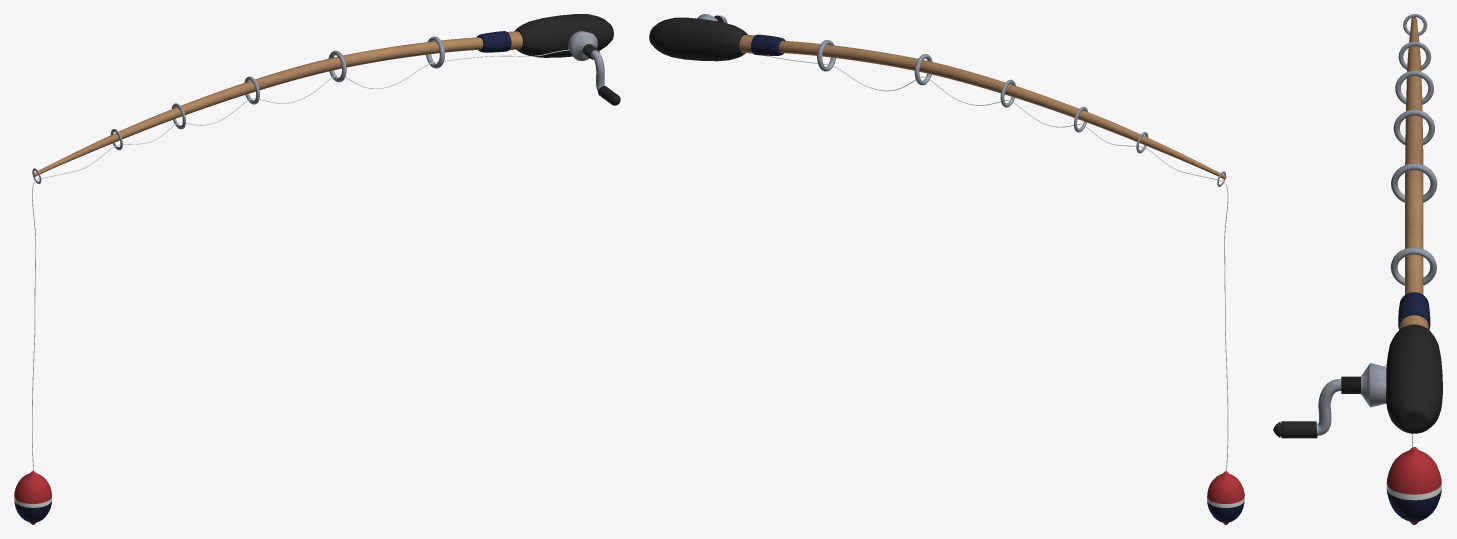
The model's file is Fishing-Rod.fbx.
3 views of the same model, side by side, from view 1: azimuth 30°, elevation 25°; view 2: azimuth 150°, elevation 25°; view 3: azimuth 270°, elevation 25° (orthographic). The views are drawn at different scales.
Parts seen in each view (by area): view 1: Catenary, Cylinder, Sphere; view 2: Catenary, Cylinder, Sphere; view 3: Cylinder, Catenary, Sphere.
Part boxes in pixels (<box>): Catenary: <box>32,36,483,183</box>; Cylinder: <box>476,14,620,105</box>; Sphere: <box>14,49,569,524</box>; Catenary: <box>779,40,1226,186</box>; Cylinder: <box>649,14,785,61</box>; Sphere: <box>765,55,1244,524</box>; Cylinder: <box>1273,292,1442,438</box>; Catenary: <box>1390,14,1437,294</box>; Sphere: <box>1384,364,1441,524</box>.
Bounding box in the file's own units: 1267 × 813 × 217.
6 materials, 2 textured.
